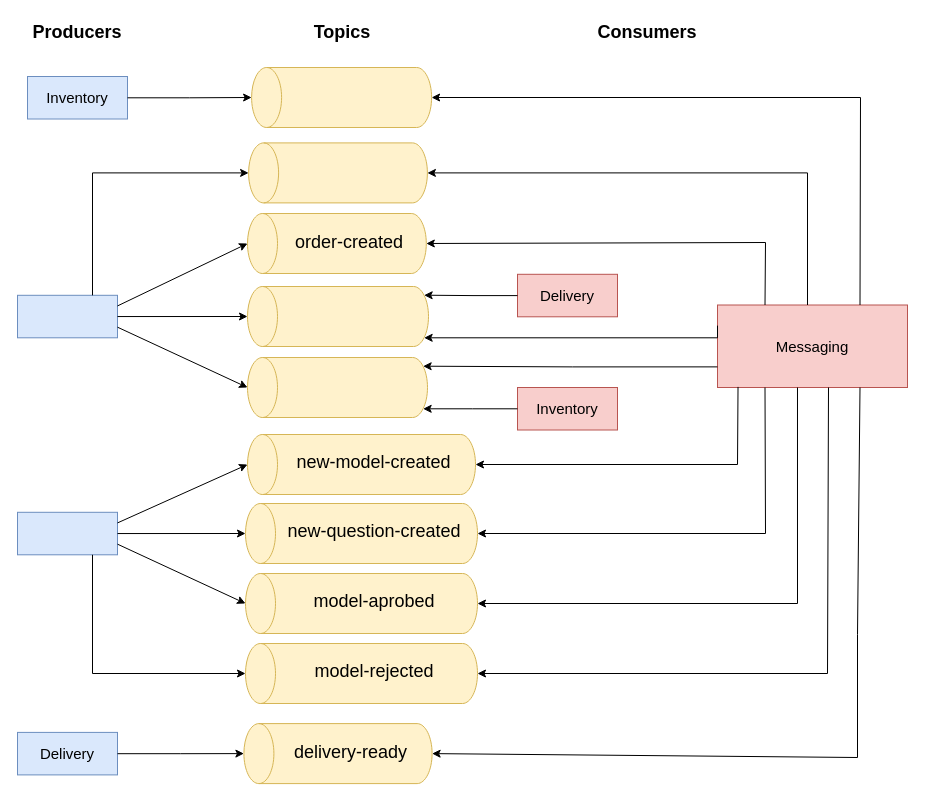
This 925x801 diagram has some shape labels left out. The shapes that lost their labels are listed below. From the top down, each one's box as (x1, y1, x2, y2) in pixels, then its label:
(251, 66, 432, 128): low-stock
(248, 142, 427, 203): order-rejected
(16, 294, 118, 338): Payment
(246, 286, 428, 346): order-payed
(246, 356, 428, 418): order-canceled
(16, 511, 118, 555): Product
